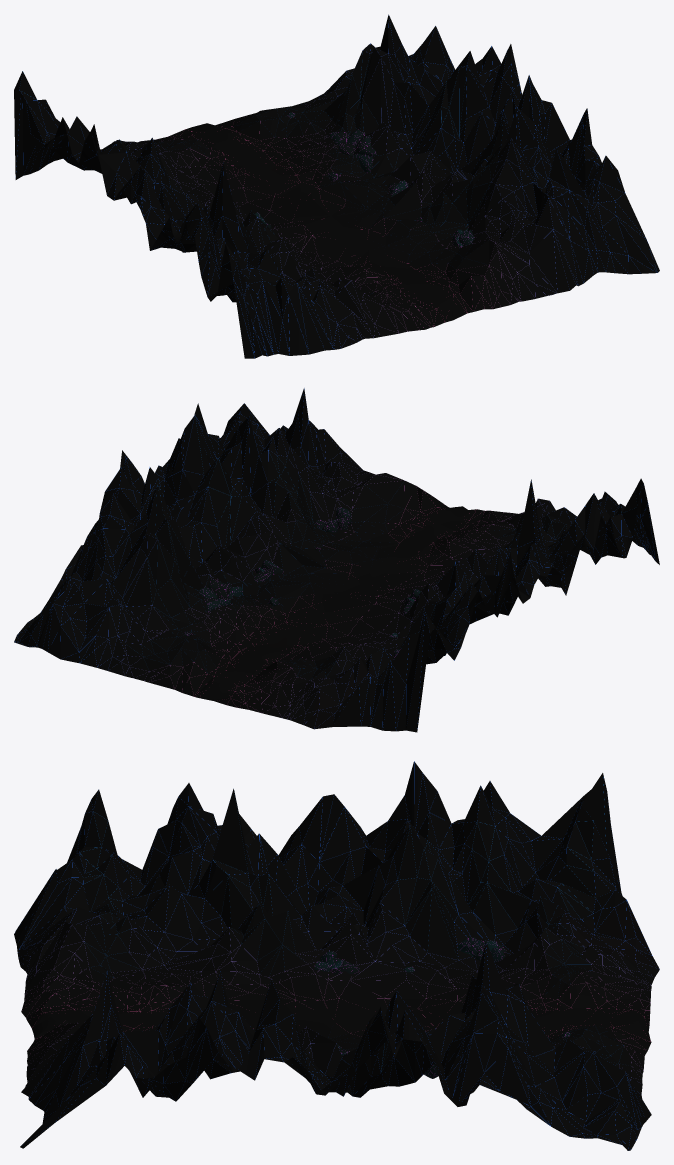
File: Terrain_Desert_Baground.fbx
The picture shows the model from 3 angles, top to bottom: view 1: azimuth 30°, elevation 25°; view 2: azimuth 150°, elevation 25°; view 3: azimuth 270°, elevation 25°; orthographic projection. The views are drawn at different scales.
Parts seen in each view (by area): view 1: Terrain_Desert_Baground; view 2: Terrain_Desert_Baground; view 3: Terrain_Desert_Baground.
Part boxes in pixels (<box>): Terrain_Desert_Baground: <box>14,14,659,358</box>; Terrain_Desert_Baground: <box>14,388,659,732</box>; Terrain_Desert_Baground: <box>14,761,659,1150</box>.
Bounding box in the file's own units: 100525 × 32495 × 114598.
